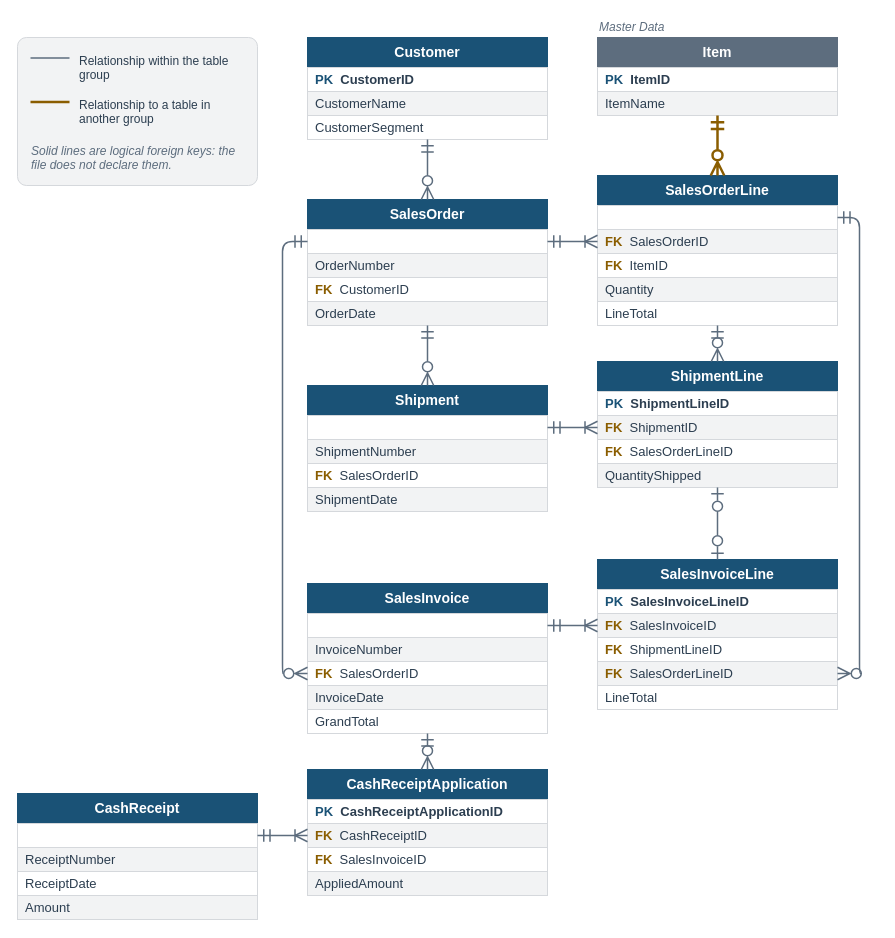
The diagram is 895 pixels wide and 938 high, and some of its shapes have lost their labels. Each missing label, with the centre of its shape:
PK CashReceiptID: (137,835)
PK SalesInvoiceID: (427,625)
PK SalesOrderID: (427,241)
PK SalesOrderLineID: (717,217)
PK ShipmentID: (427,427)
